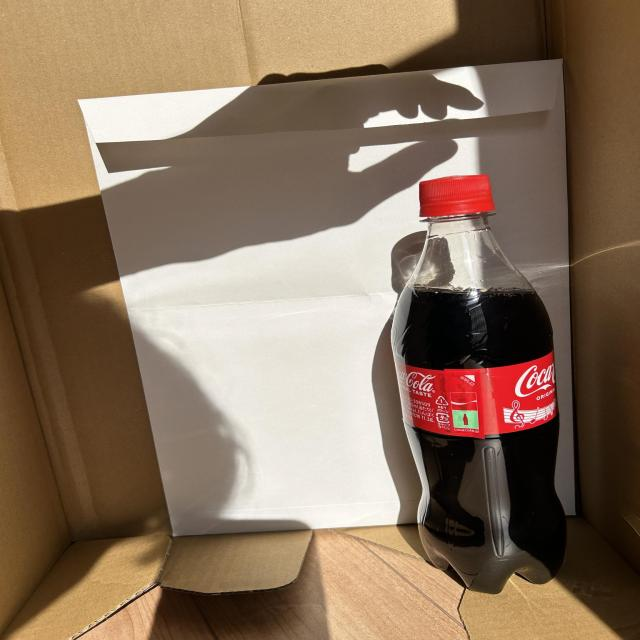high: (391, 175, 566, 593)
